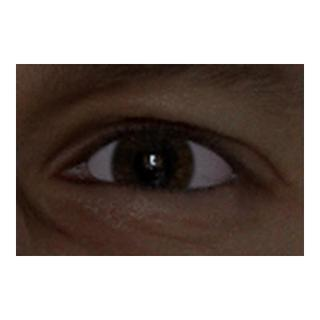pupil: (135, 147, 171, 183)
